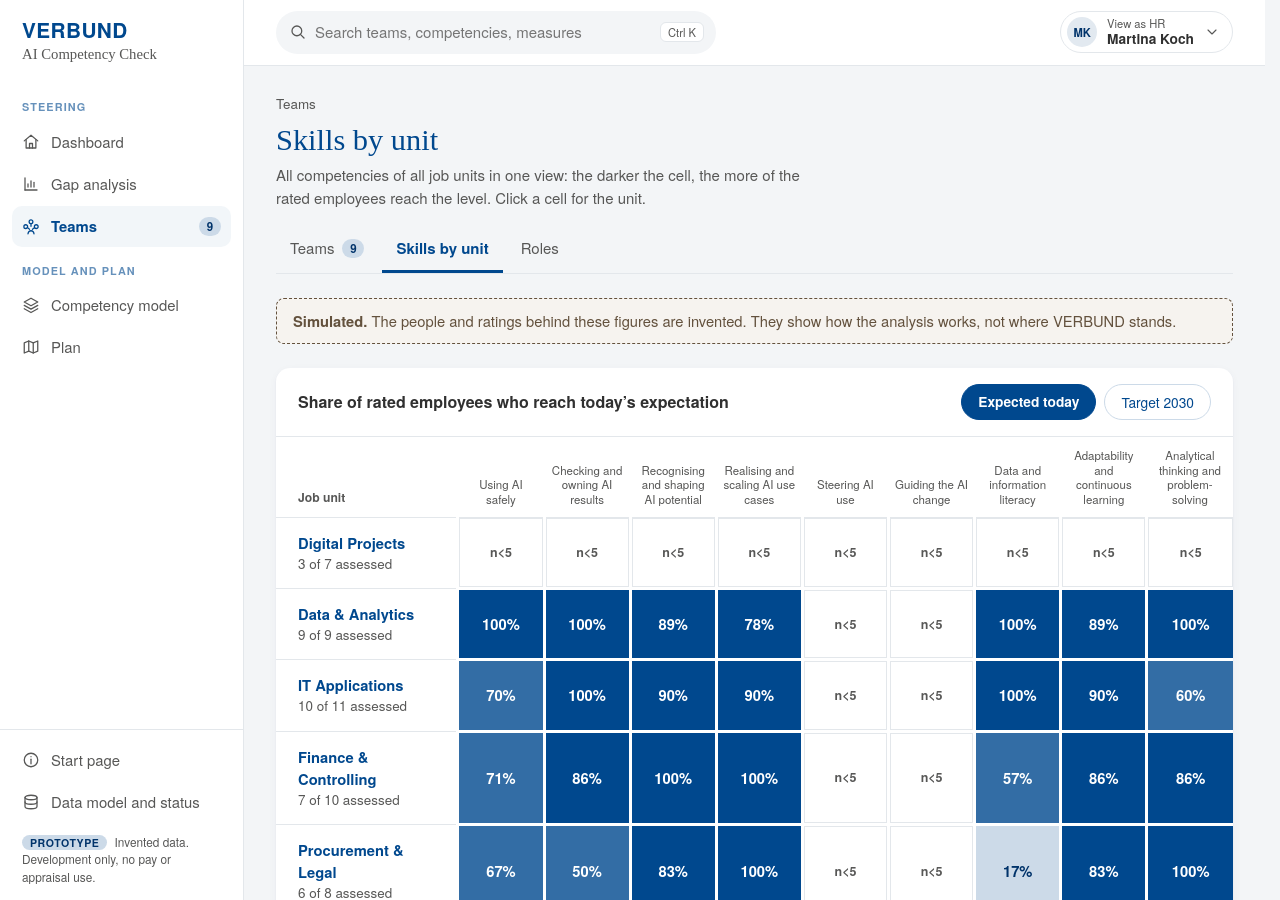
after the jour fixe of 24.11.2026 › shows all skills per job unit and the roles, never a person
Expected: the navigation bar named "Main" is shown, top-left (12, 100), bottom-right (231, 357)
Click the 1st button "100%" at (501, 624), box top-left (459, 600), bottom-right (542, 648)
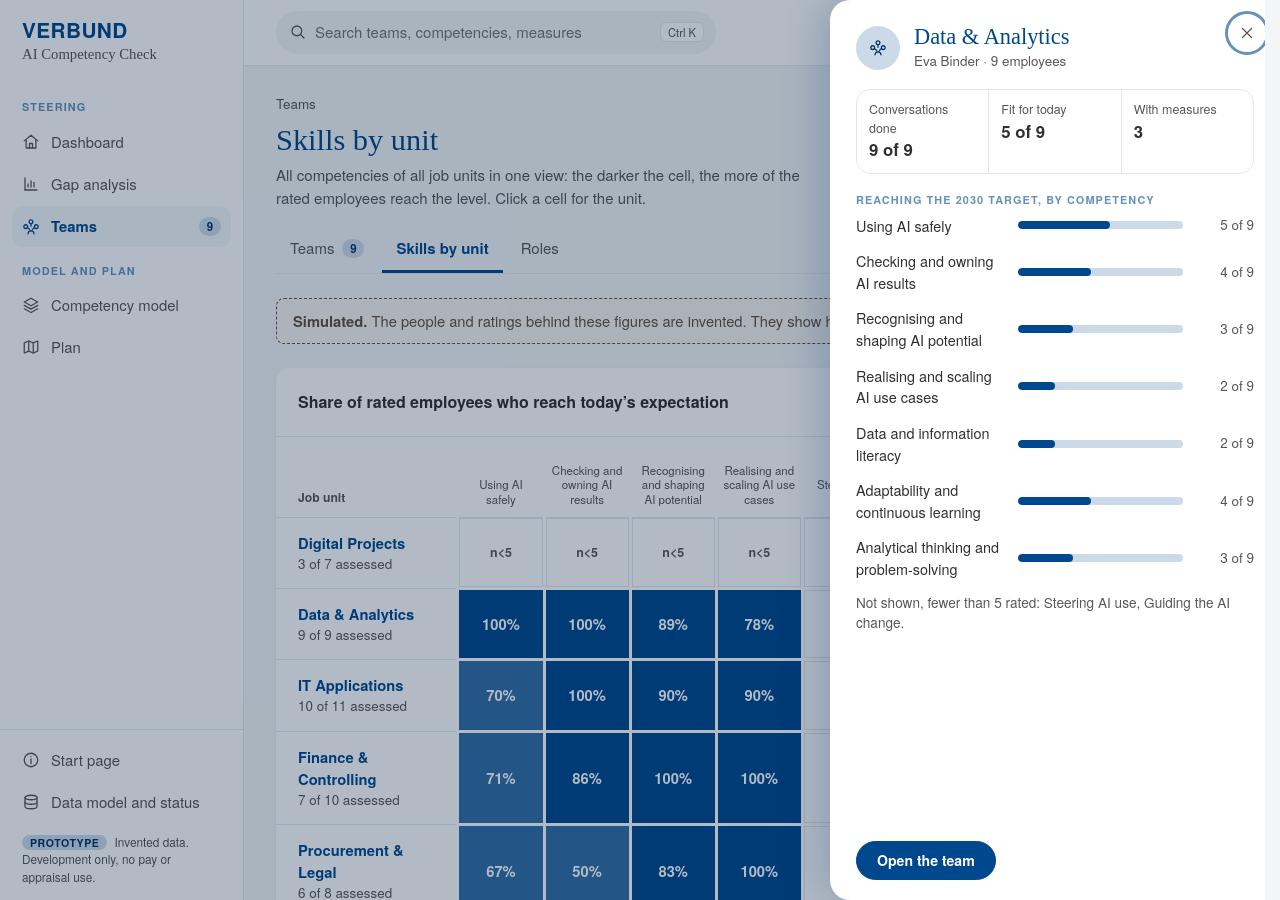
Expected: the link "Open the team" is shown, top-left (856, 841), bottom-right (996, 880)
Press Escape
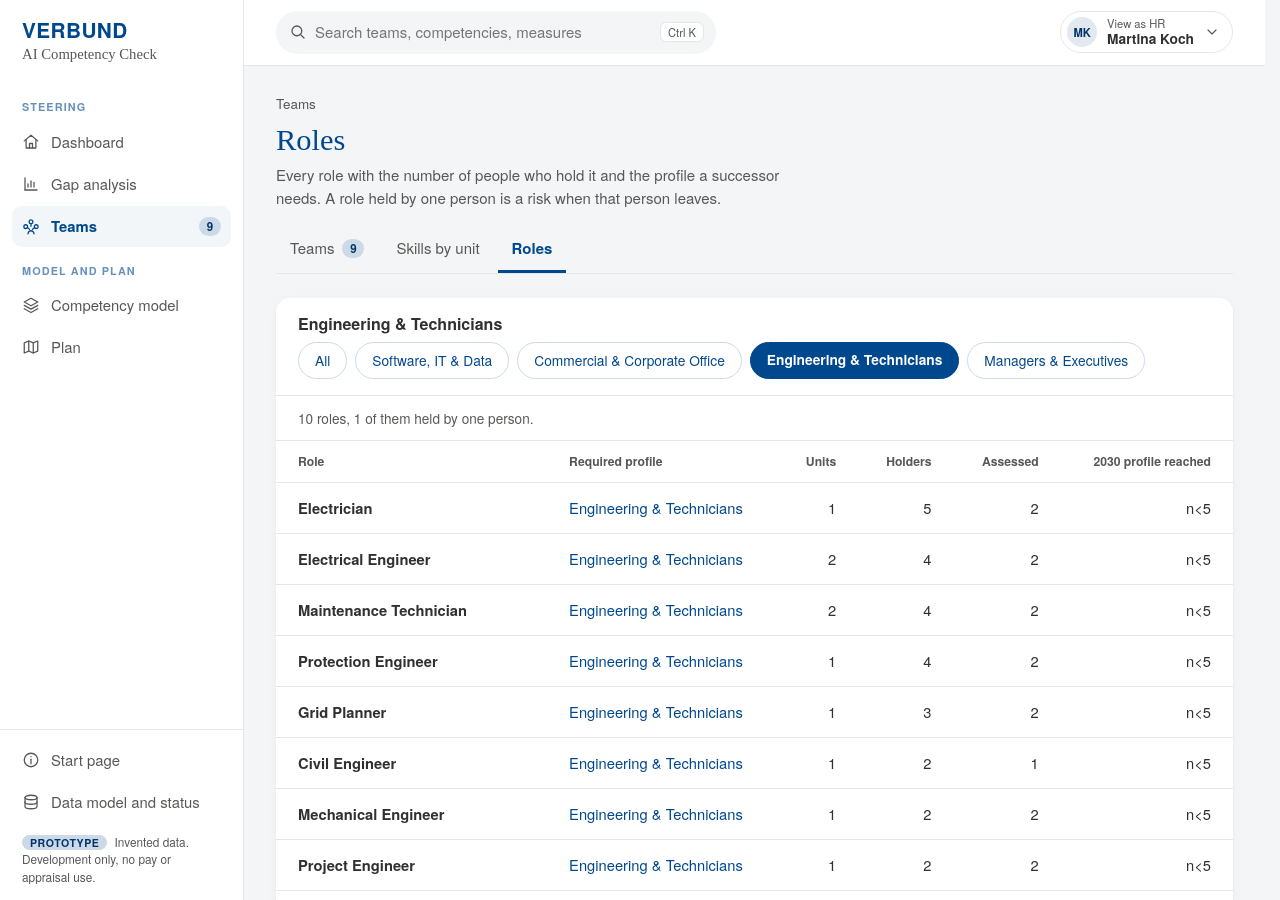
Expected: the element that starts with "Teams" shows "Maintenance Technician", top-left (298, 599), bottom-right (467, 621)
